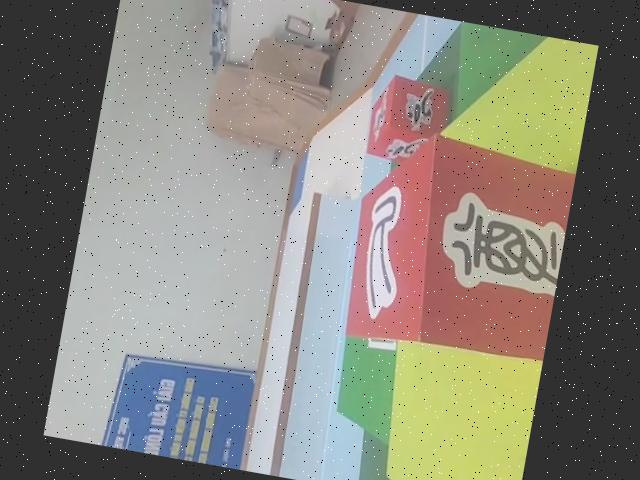R1: (358, 69, 453, 172)
R2 Fake: (340, 126, 578, 372)
